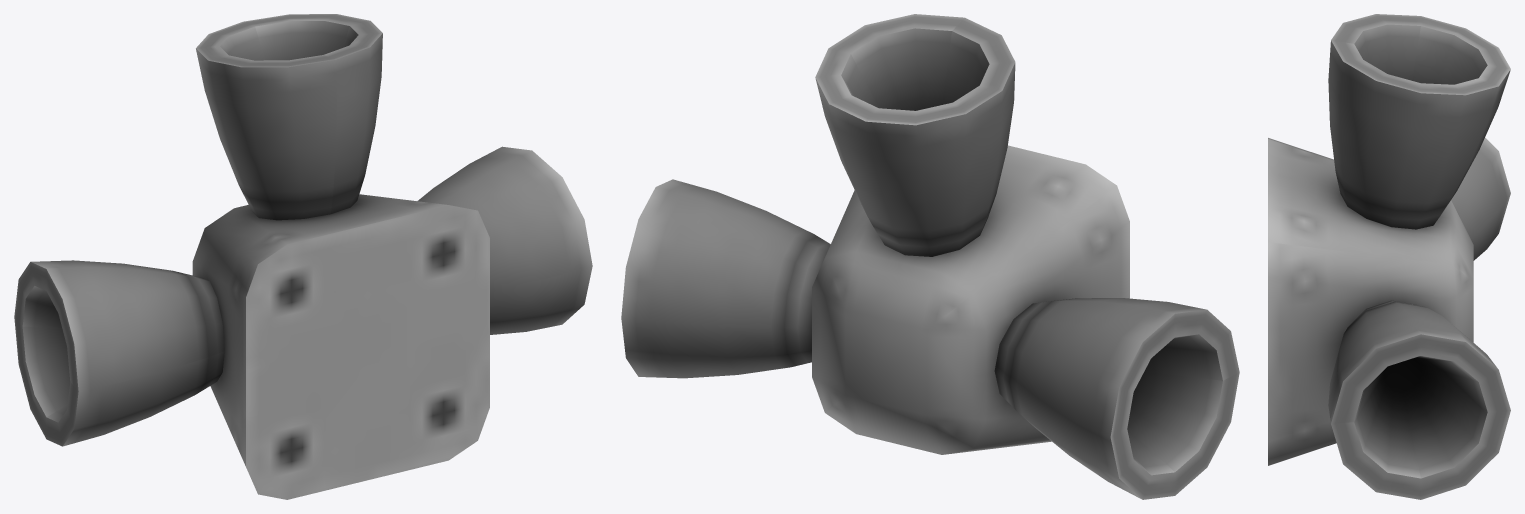
File: rcs3.fbx
3 renders of one model, left to right at view 1: azimuth 30°, elevation 25°; view 2: azimuth 150°, elevation 25°; view 3: azimuth 270°, elevation 25°, orthographic. The views are drawn at different scales.
Visible parts, largest first — view 1: mesh; view 2: mesh; view 3: mesh.
Part boxes in pixels (x1=…): mesh: x1=14, y1=14, x2=592, y2=499; mesh: x1=621, y1=14, x2=1239, y2=499; mesh: x1=1268, y1=14, x2=1510, y2=499.
Size of the model in its own units: 0.1579 by 0.1165 by 0.0665.
1 material, 1 textured.
